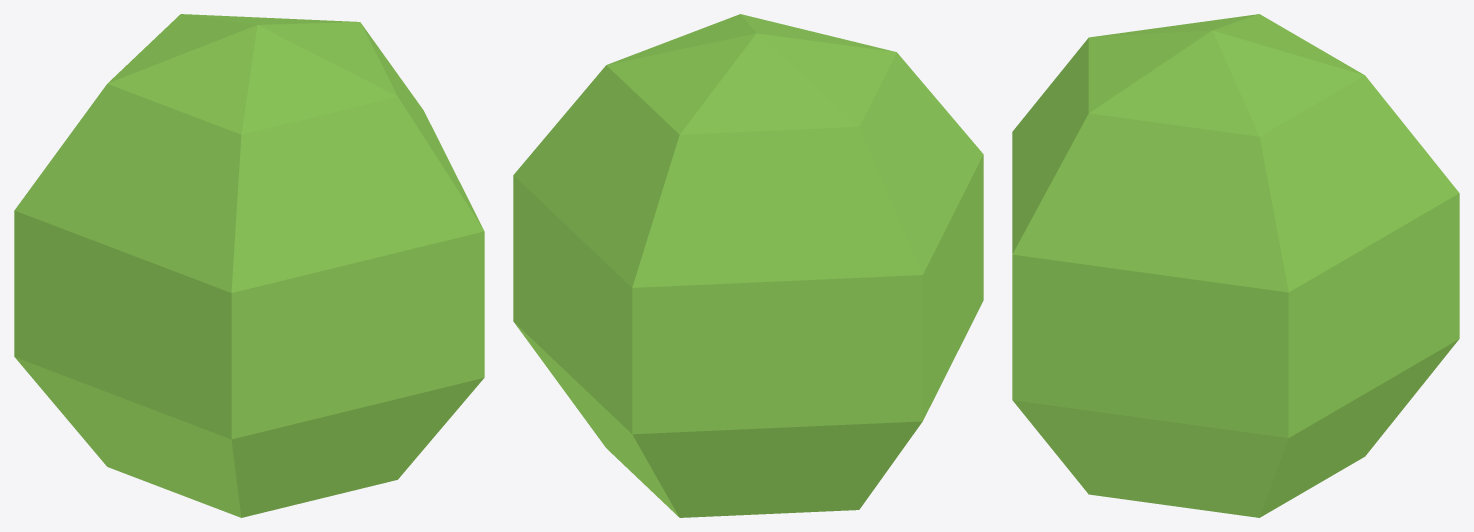
Rendered from Bonder's Bulb.glb.
3 renders of one model, left to right at view 1: azimuth 30°, elevation 25°; view 2: azimuth 150°, elevation 25°; view 3: azimuth 270°, elevation 25°, orthographic.
Parts seen in each view (by area): view 1: Sphere; view 2: Sphere; view 3: Sphere.
Part boxes in pixels (x1=…): Sphere: x1=14, y1=14, x2=484, y2=517; Sphere: x1=513, y1=14, x2=983, y2=517; Sphere: x1=1012, y1=14, x2=1459, y2=517.
Size of the model in its own units: 0.388 by 0.429 by 0.369.
1 material, 1 textured.
